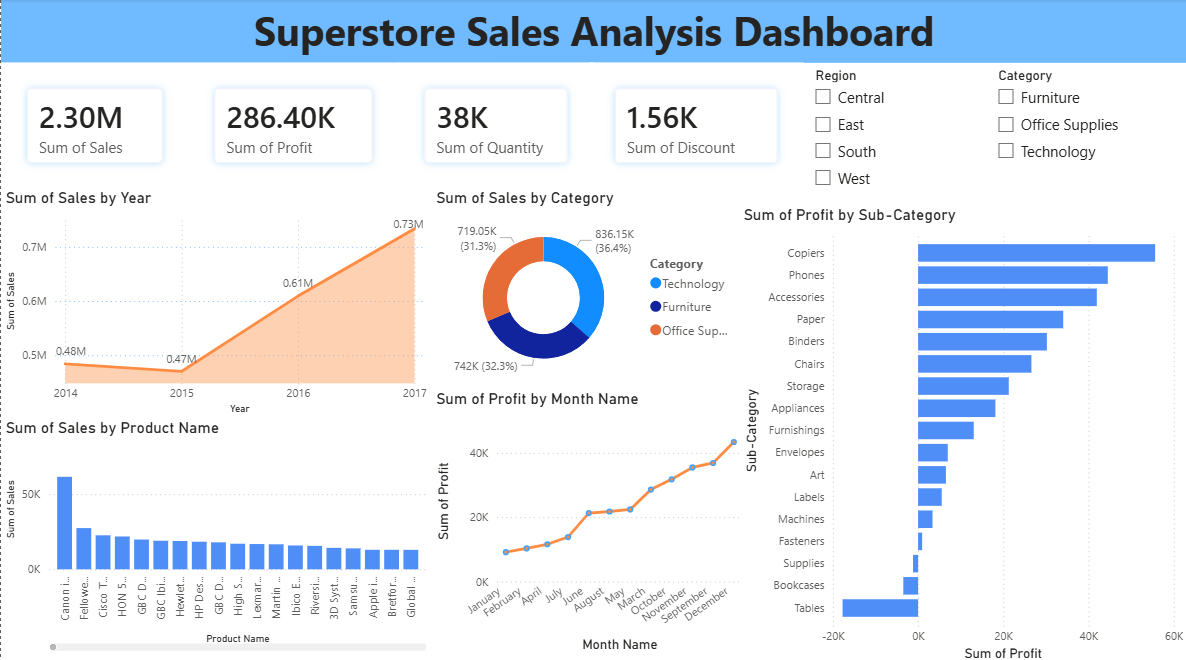

The page's visual inventory and layout, read from the dashboard file:
{"tool":"powerbi","page":{"name":"Page 1","canvas":[1280,720],"ordinal":0},"visuals":[{"type":"lineChart","fields":{"Y":["Sum(cleaned_superstore.Sales)"],"Category":["cleaned_superstore.Year"]},"box":[0,206,464,248],"z":0},{"type":"donutChart","fields":{"Y":["Sum(cleaned_superstore.Sales)"],"Category":["cleaned_superstore.Category"]},"box":[464,206,340,216],"z":1000},{"type":"barChart","fields":{"Y":["Sum(cleaned_superstore.Profit)"],"Category":["cleaned_superstore.Sub-Category"]},"box":[796,224,484,496],"z":2000},{"type":"lineChart","fields":{"Category":["cleaned_superstore.Month Name"],"Y":["Sum(cleaned_superstore.Profit)"]},"box":[464,422,340,288],"z":3000},{"type":"slicer","fields":{"Values":["cleaned_superstore.Category"]},"box":[1064,70,216,154],"z":4000},{"type":"slicer","fields":{"Values":["cleaned_superstore.Region"]},"box":[866,70,172,154],"z":5000},{"type":"textbox","box":[0,0,1280,70],"z":6000},{"type":"cardVisual","fields":{"Data":["Sum(cleaned_superstore.Sales)"]},"box":[0,70,202,136],"z":7000},{"type":"cardVisual","fields":{"Data":["Sum(cleaned_superstore.Profit)"]},"box":[202.4,69.6,226.7,136],"z":8000},{"type":"cardVisual","fields":{"Data":["Sum(cleaned_superstore.Quantity)"]},"box":[429.1,69.6,210.5,136],"z":9000},{"type":"cardVisual","fields":{"Data":["Sum(cleaned_superstore.Discount)"]},"box":[634.7,69.6,231.5,136],"z":10000},{"type":"columnChart","fields":{"Category":["cleaned_superstore.Product Name"],"Y":["Sum(cleaned_superstore.Sales)"]},"box":[0,454,464,256],"z":11000}]}

Visuals, with their boxes in screenshot pixels (x1, y1, x2, y2), scaled from the page's 1280x720 canvas onto the 1186x660 screenshot:
lineChart - Sum(cleaned_superstore.Sales) x cleaned_superstore.Year: (x1=0, y1=189, x2=430, y2=416)
donutChart - Sum(cleaned_superstore.Sales) x cleaned_superstore.Category: (x1=430, y1=189, x2=745, y2=387)
barChart - Sum(cleaned_superstore.Profit) x cleaned_superstore.Sub-Category: (x1=738, y1=205, x2=1185, y2=659)
lineChart - cleaned_superstore.Month Name x Sum(cleaned_superstore.Profit): (x1=430, y1=387, x2=745, y2=651)
slicer - cleaned_superstore.Category: (x1=986, y1=64, x2=1185, y2=205)
slicer - cleaned_superstore.Region: (x1=802, y1=64, x2=962, y2=205)
textbox: (x1=0, y1=0, x2=1185, y2=64)
cardVisual - Sum(cleaned_superstore.Sales): (x1=0, y1=64, x2=187, y2=189)
cardVisual - Sum(cleaned_superstore.Profit): (x1=188, y1=64, x2=398, y2=188)
cardVisual - Sum(cleaned_superstore.Quantity): (x1=398, y1=64, x2=593, y2=188)
cardVisual - Sum(cleaned_superstore.Discount): (x1=588, y1=64, x2=803, y2=188)
columnChart - cleaned_superstore.Product Name x Sum(cleaned_superstore.Sales): (x1=0, y1=416, x2=430, y2=651)
